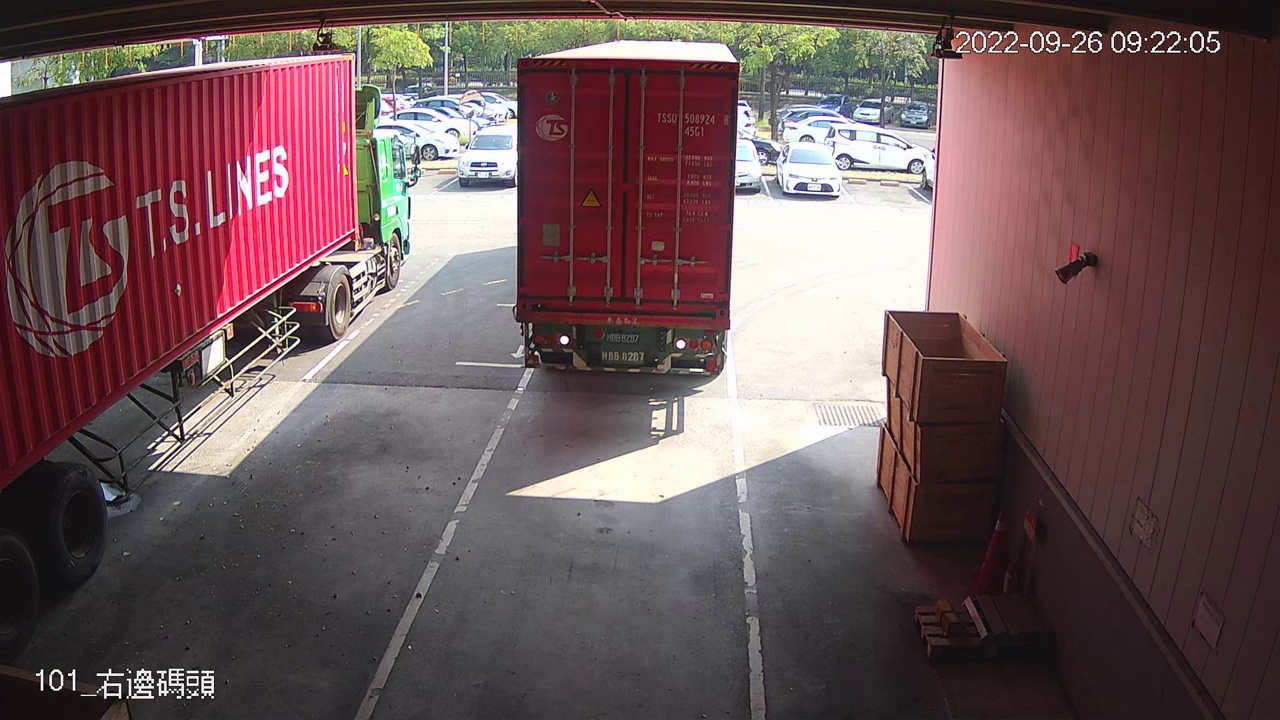container: (651, 105, 733, 140)
